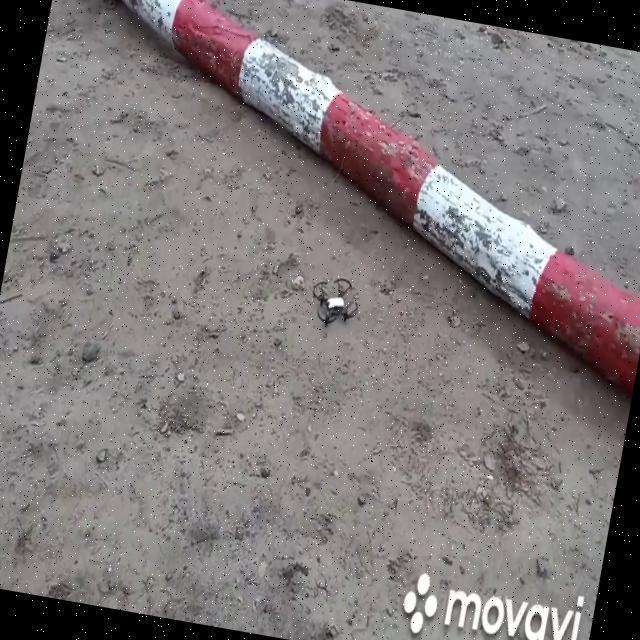Drons: (305, 270, 368, 334)
